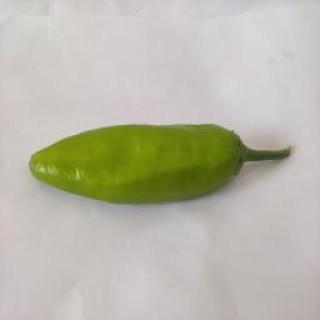Cabai Hijau: (26, 117, 296, 209)
